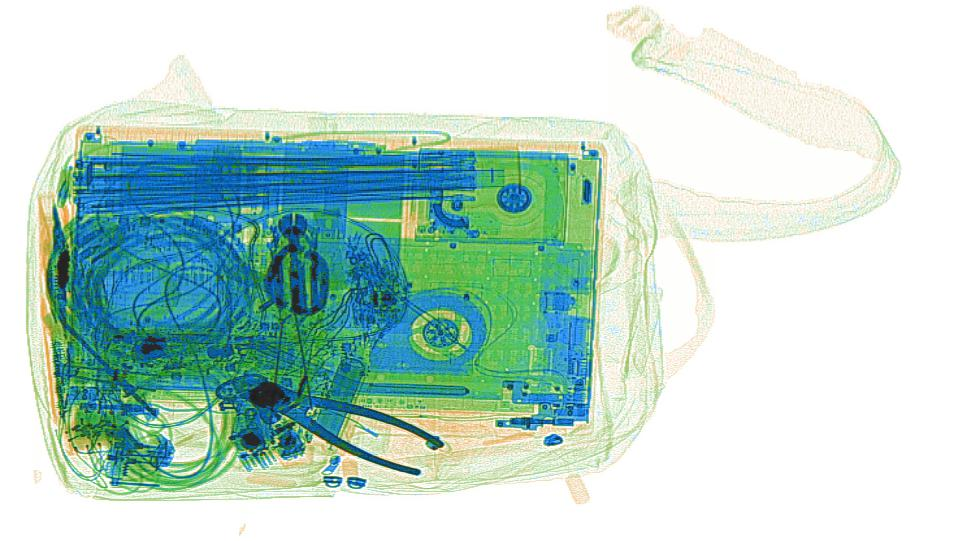battery: (312, 355, 365, 447)
